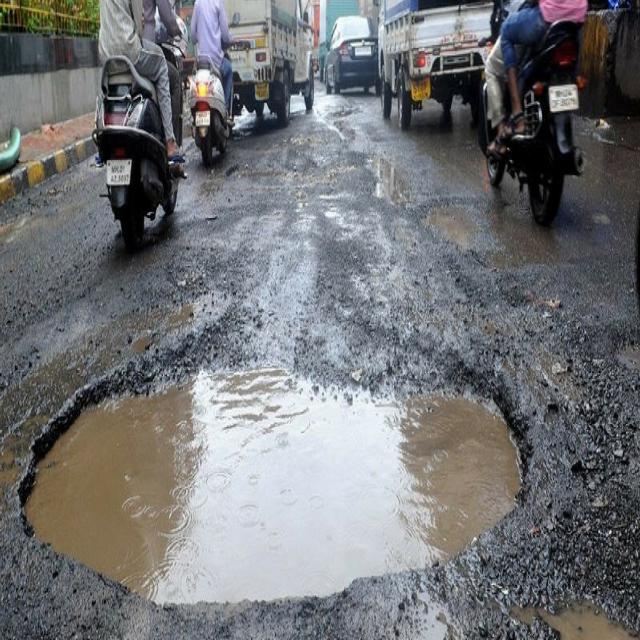Pothole: (56, 344, 522, 610)
Surface Erosion: (234, 104, 488, 328)
